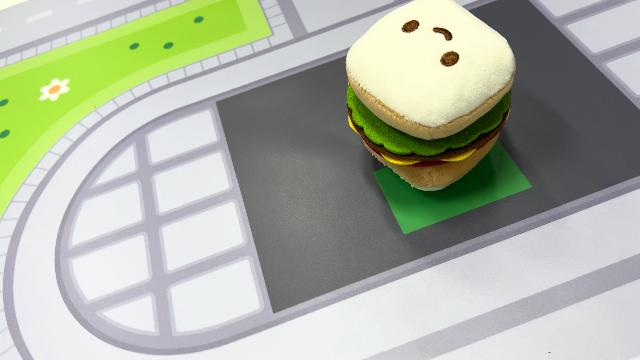sandwich: (342, 1, 518, 193)
